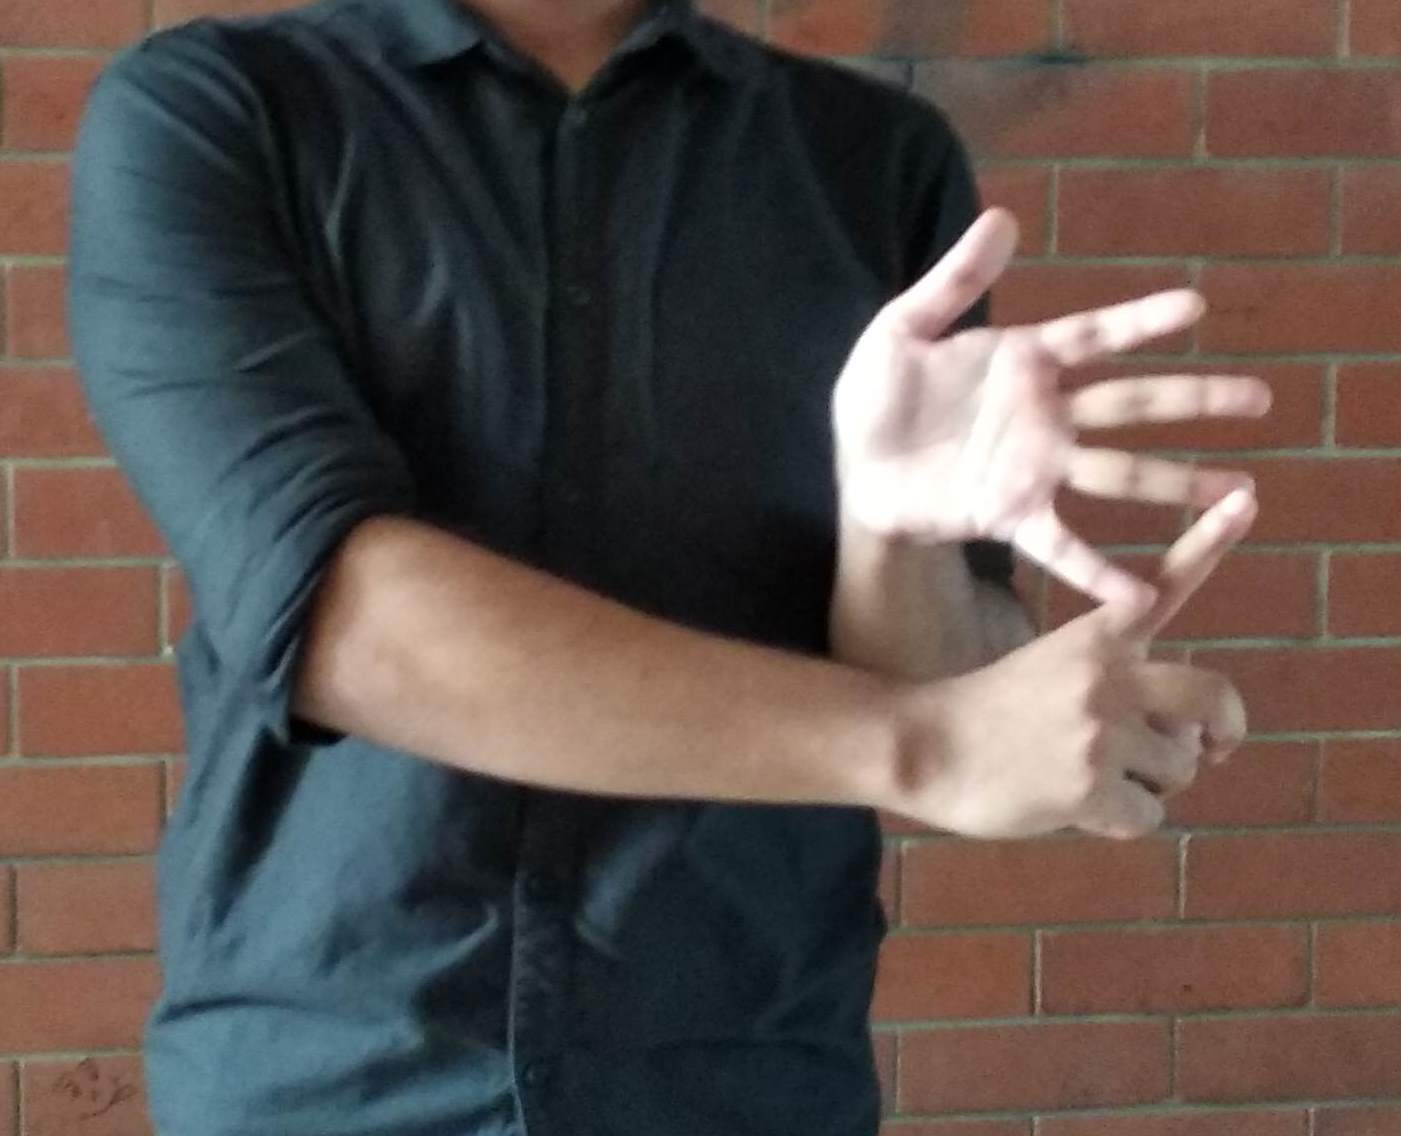e: (875, 225, 1265, 878)
